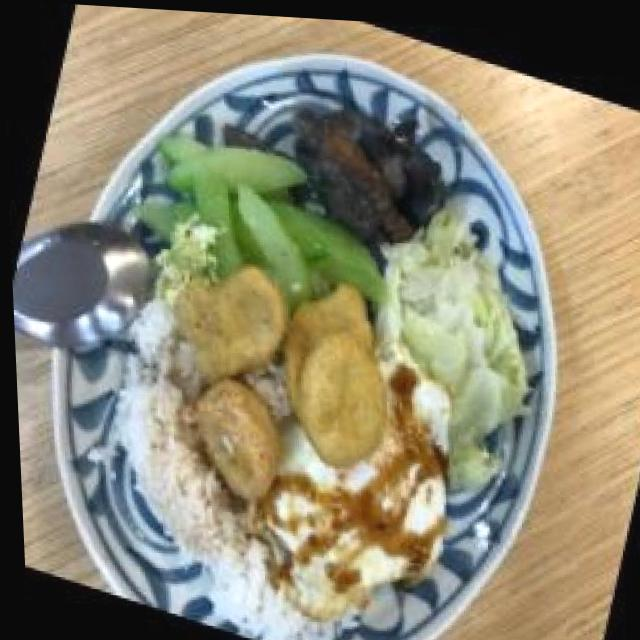chicken_nuggets: (126, 225, 419, 532)
chinese_cabbage: (372, 224, 525, 369)
fried_eggs: (220, 378, 467, 640)
rice: (83, 303, 213, 504), (154, 479, 255, 584)
